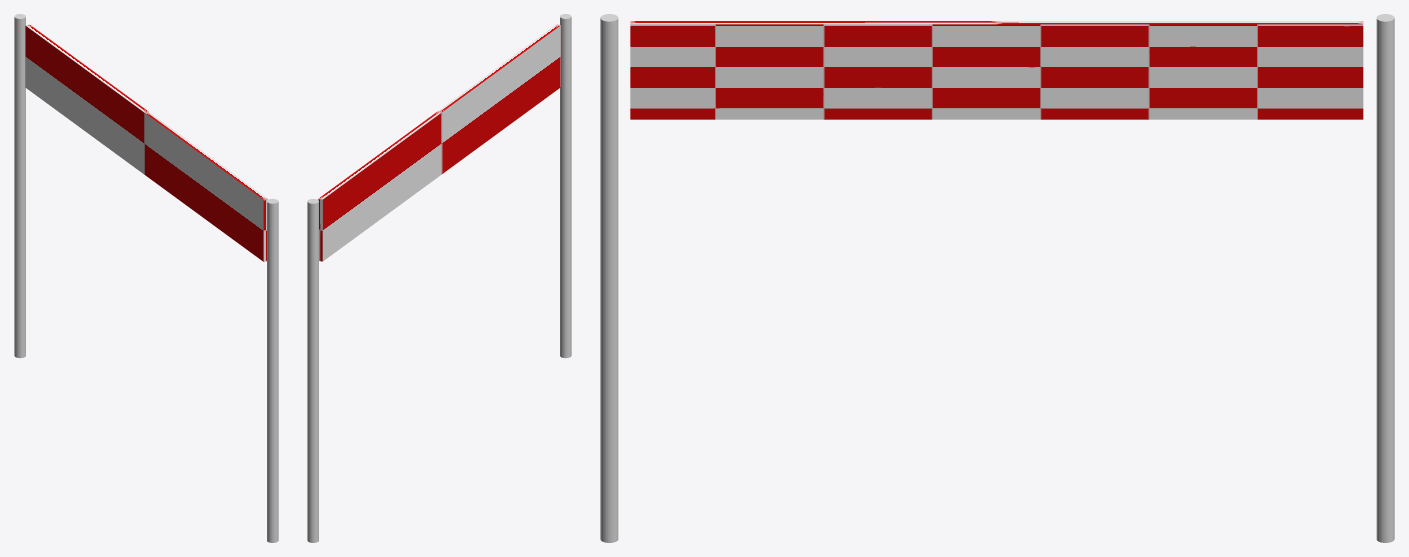
The model's file is end.glb.
3 renders of one model, left to right at view 1: azimuth 30°, elevation 25°; view 2: azimuth 150°, elevation 25°; view 3: azimuth 270°, elevation 25°, orthographic. The views are drawn at different scales.
Visible parts, largest first — view 1: Cube, Cylinder, Cylinder.001; view 2: Cube, Cylinder.001, Cylinder; view 3: Cube, Cylinder, Cylinder.001.
Part boxes in pixels (left/top/right/bottom): Cube: left=25, top=24, right=267, bottom=261; Cylinder: left=267, top=198, right=278, bottom=542; Cylinder.001: left=14, top=14, right=25, bottom=358; Cube: left=318, top=24, right=560, bottom=261; Cylinder.001: left=307, top=198, right=318, bottom=542; Cylinder: left=560, top=14, right=571, bottom=358; Cube: left=630, top=21, right=1363, bottom=119; Cylinder: left=600, top=14, right=618, bottom=542; Cylinder.001: left=1376, top=14, right=1394, bottom=542.
Size of the model in its own units: 0.342 by 10.93 by 15.09.
Materials: 1 (1 with a texture image).
